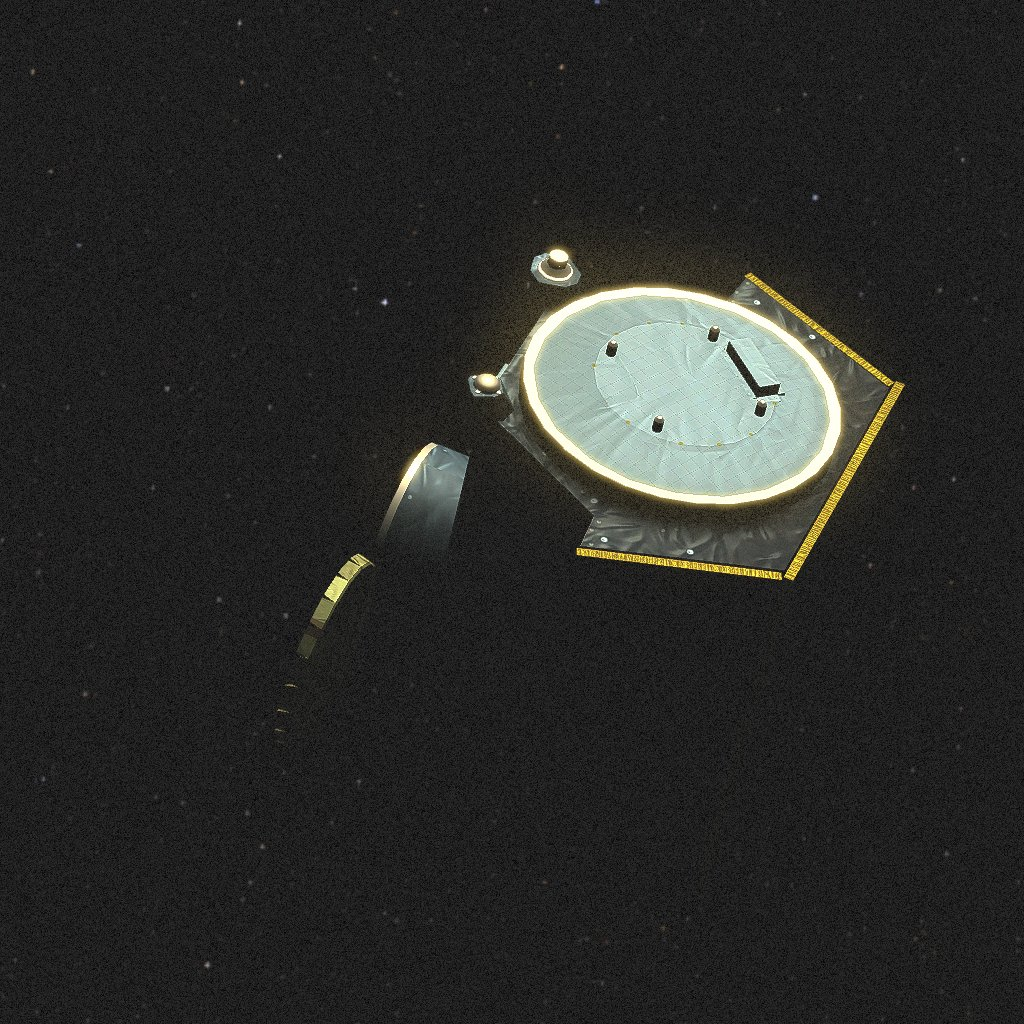cheops: (275, 250, 905, 898)
